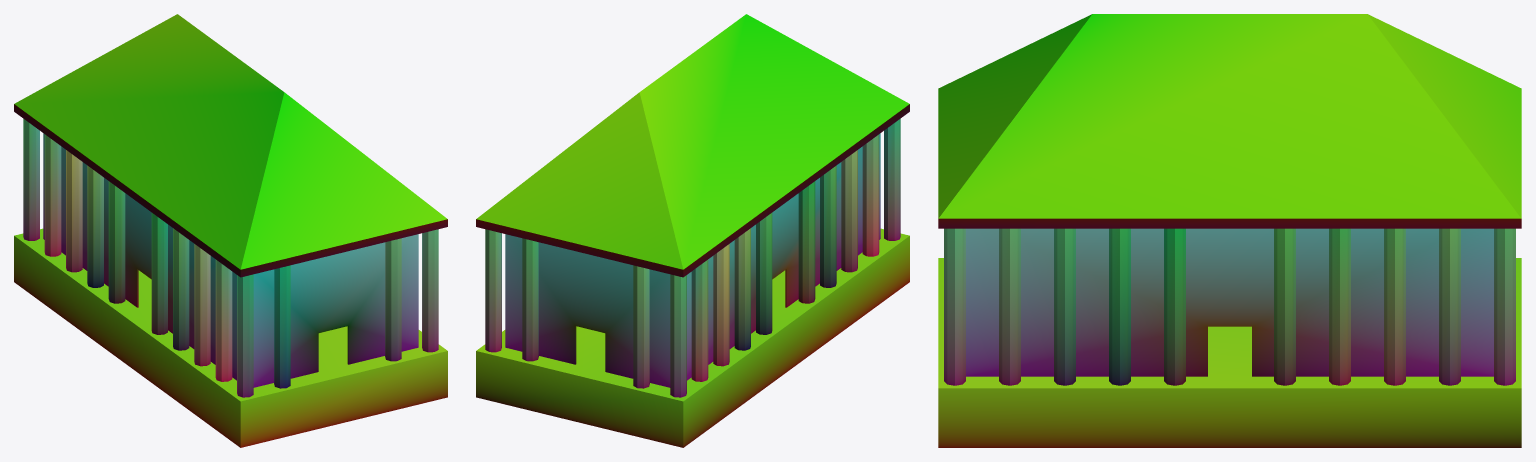
File: MS_BuildingLarge_01_Col.fbx
3 views of the same model, side by side, from view 1: azimuth 30°, elevation 25°; view 2: azimuth 150°, elevation 25°; view 3: azimuth 270°, elevation 25° (orthographic). The views are drawn at different scales.
Visible parts, largest first — view 1: MS_BuildingLarge_01_Col; view 2: MS_BuildingLarge_01_Col; view 3: MS_BuildingLarge_01_Col.
Boxes of the visible parts, x1=… form: MS_BuildingLarge_01_Col: x1=14, y1=14, x2=447, y2=447; MS_BuildingLarge_01_Col: x1=476, y1=14, x2=909, y2=447; MS_BuildingLarge_01_Col: x1=938, y1=14, x2=1521, y2=447.
Size of the model in its own units: 2800 by 3700 by 5300.
